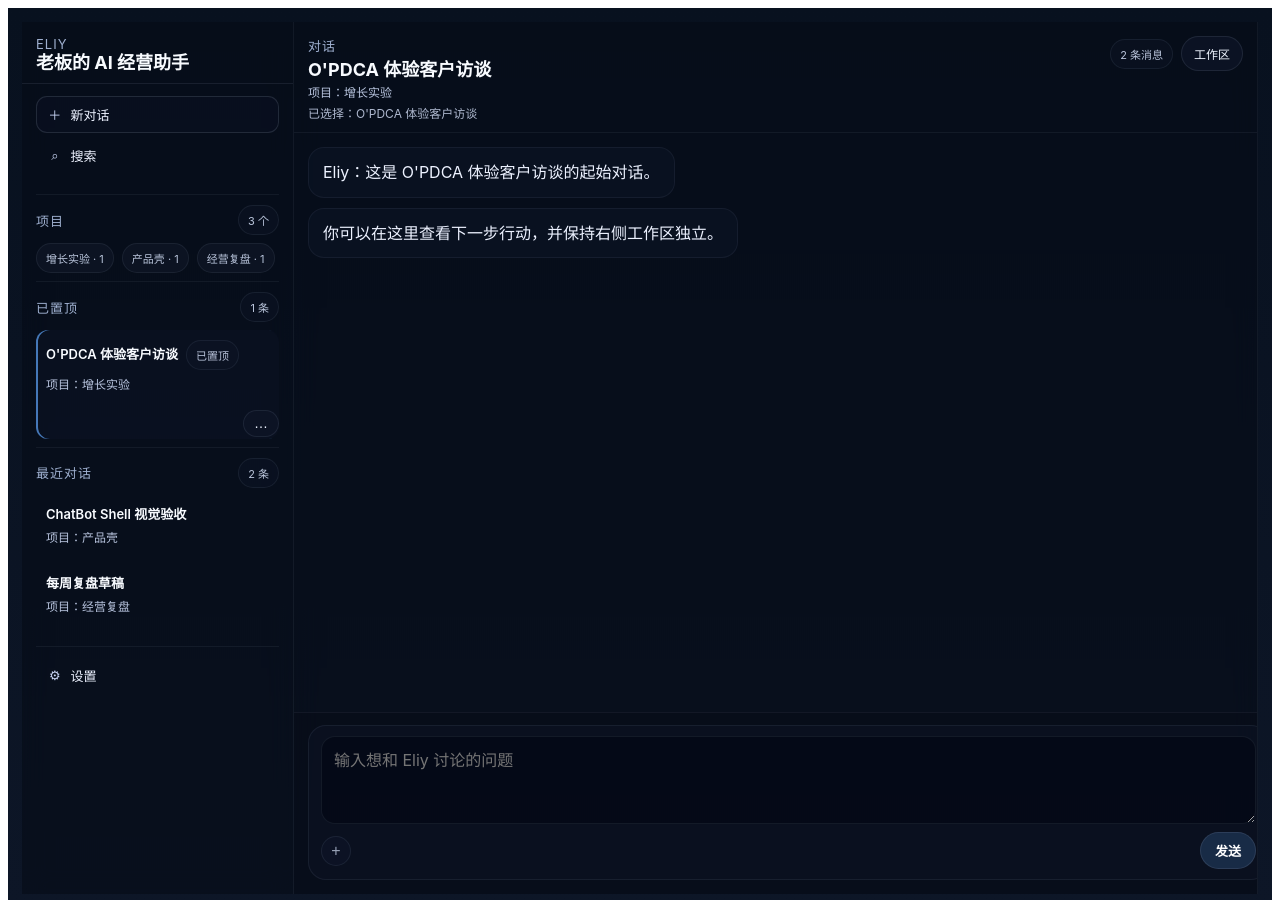
Scenario: AssistantUiChatbotShell › shows actions only on the selected conversation and keeps selection stable
Click the element with test id "conversation-item-ui-preview": [116, 514] box [46, 506, 186, 545]
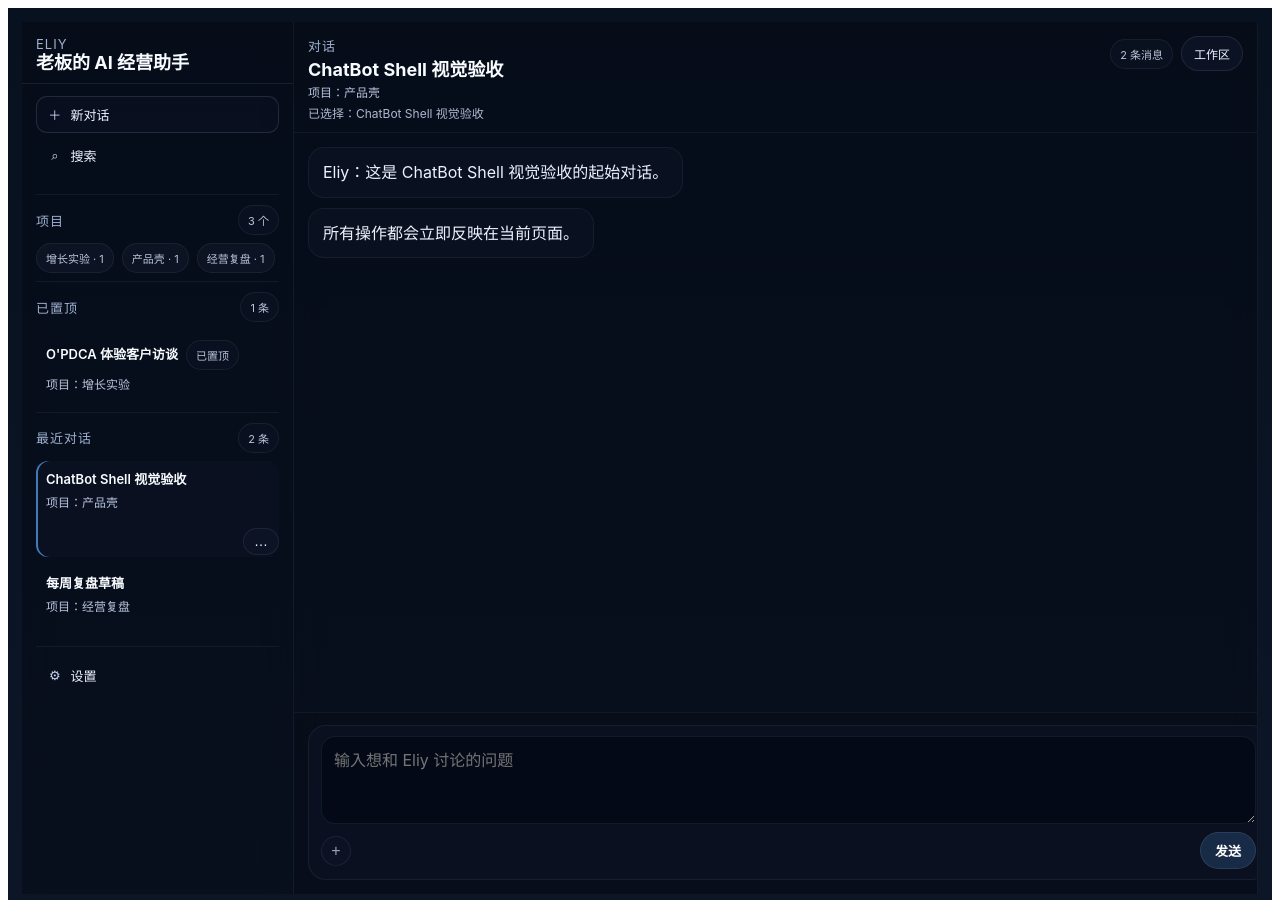
Now the element with test id "conversation-item-ui-preview" has attribute data-selected="true", box [36, 461, 279, 556]
Click the button with test id "conversation-action-menu-ui-preview": [261, 541] box [243, 528, 279, 555]
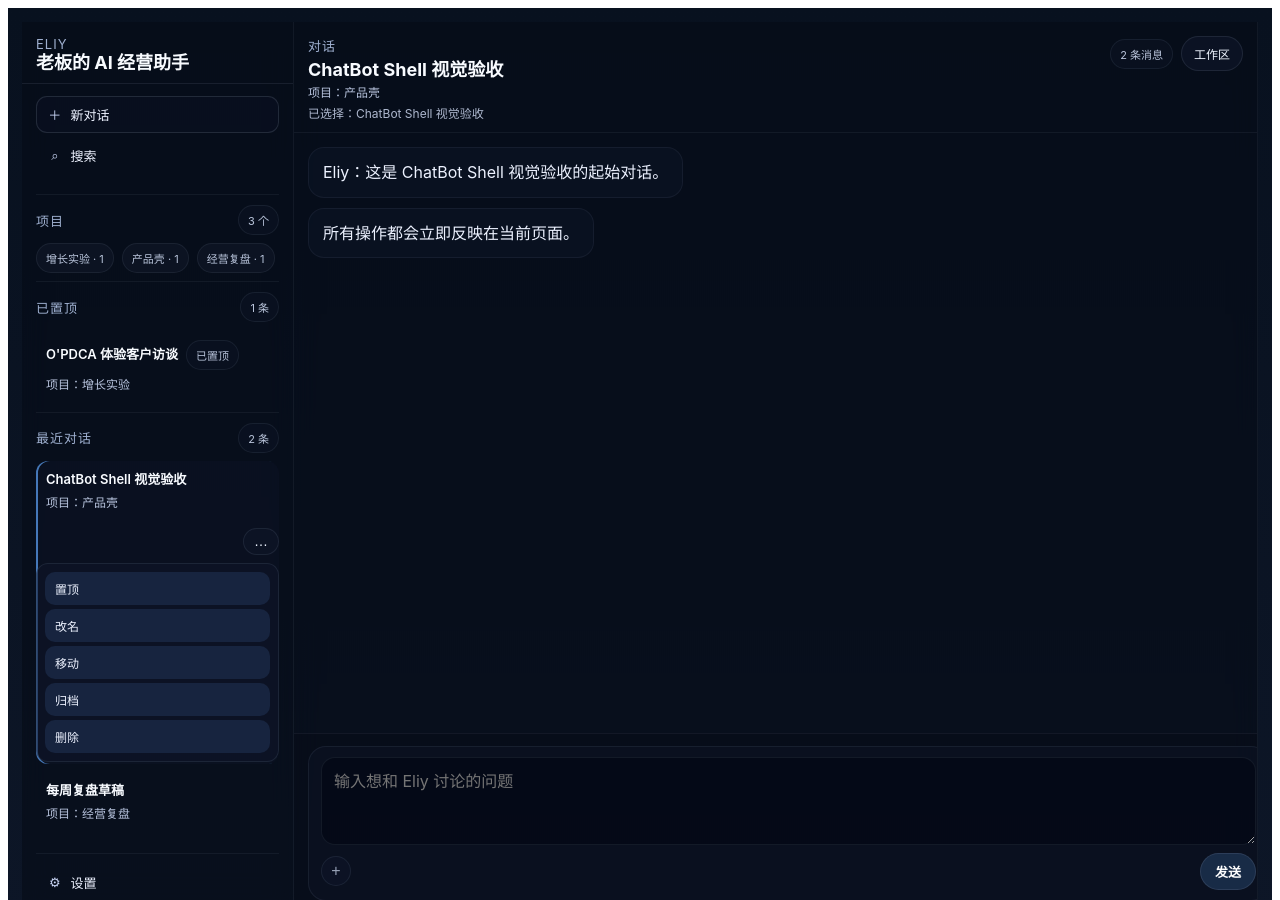
Now the element with test id "conversation-action-panel-ui-preview" is shown, box [36, 563, 279, 762]
Now the button with test id "conversation-action-pin-ui-preview" is shown
Now the button with test id "conversation-action-rename-ui-preview" is shown, box [45, 609, 270, 642]
Click the button with test id "conversation-action-pin-ui-preview": [158, 588] box [45, 572, 270, 605]
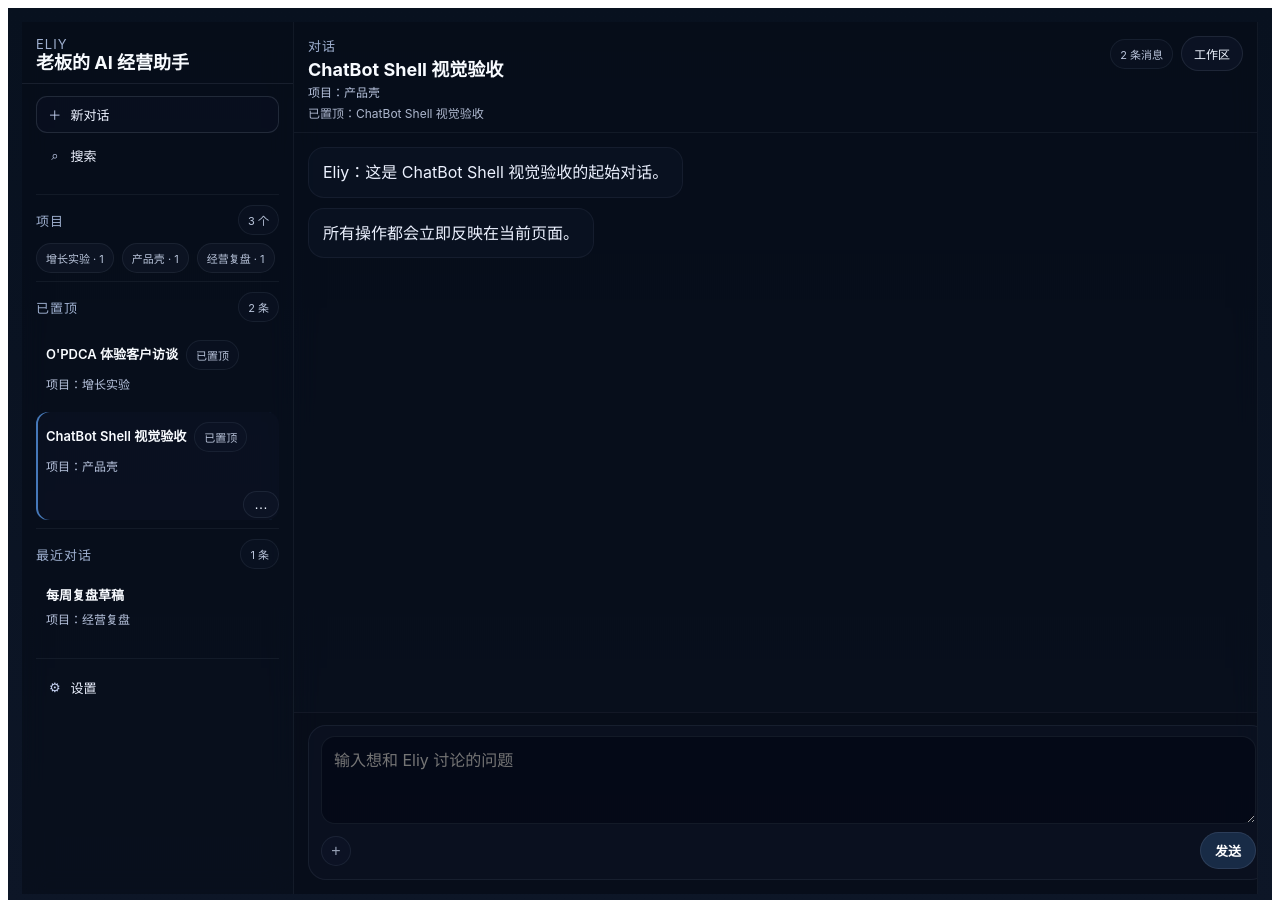
Now the text with test id "chat-action-feedback" reads "已置顶：ChatBot Shell 视觉验收", box [308, 106, 484, 121]
